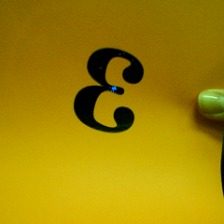orange3: (68, 45, 150, 141)
